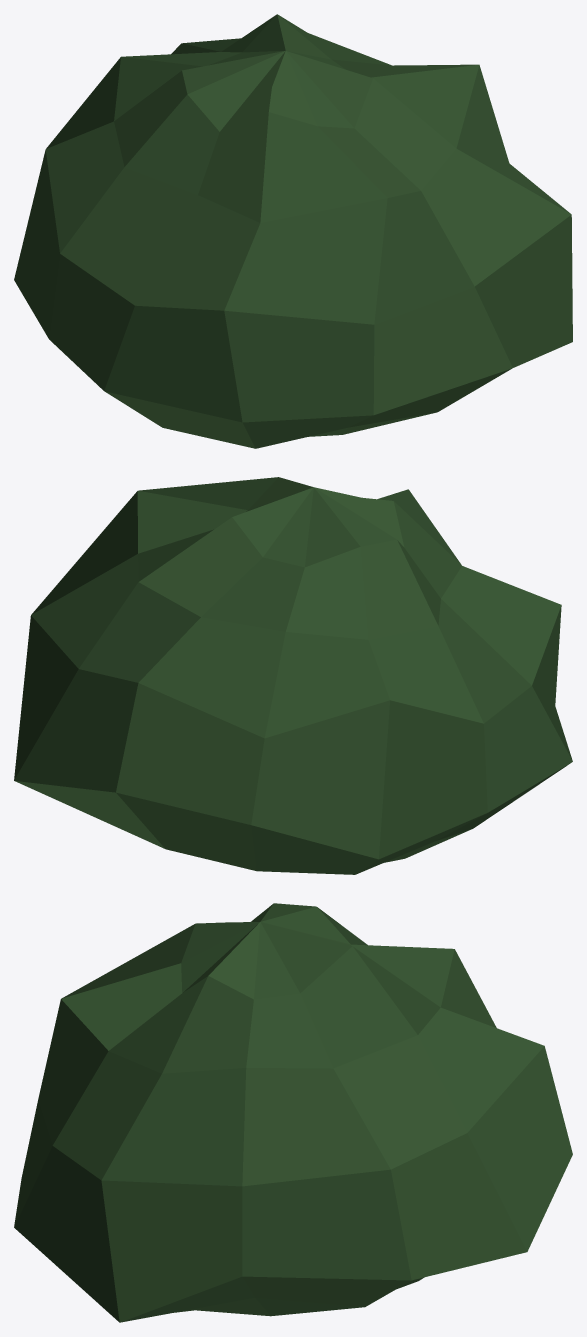
The model's file is bush2.fbx.
3 views of the same model, one above another, from view 1: azimuth 30°, elevation 25°; view 2: azimuth 150°, elevation 25°; view 3: azimuth 270°, elevation 25° (orthographic). The views are drawn at different scales.
Parts seen in each view (by area): view 1: bush; view 2: bush; view 3: bush.
Boxes of the visible parts, left/top/right/bottom form: bush: left=14, top=14, right=572, bottom=448; bush: left=14, top=477, right=572, bottom=874; bush: left=14, top=903, right=572, bottom=1322.
Size of the model in its own units: 357 by 253 by 356.
